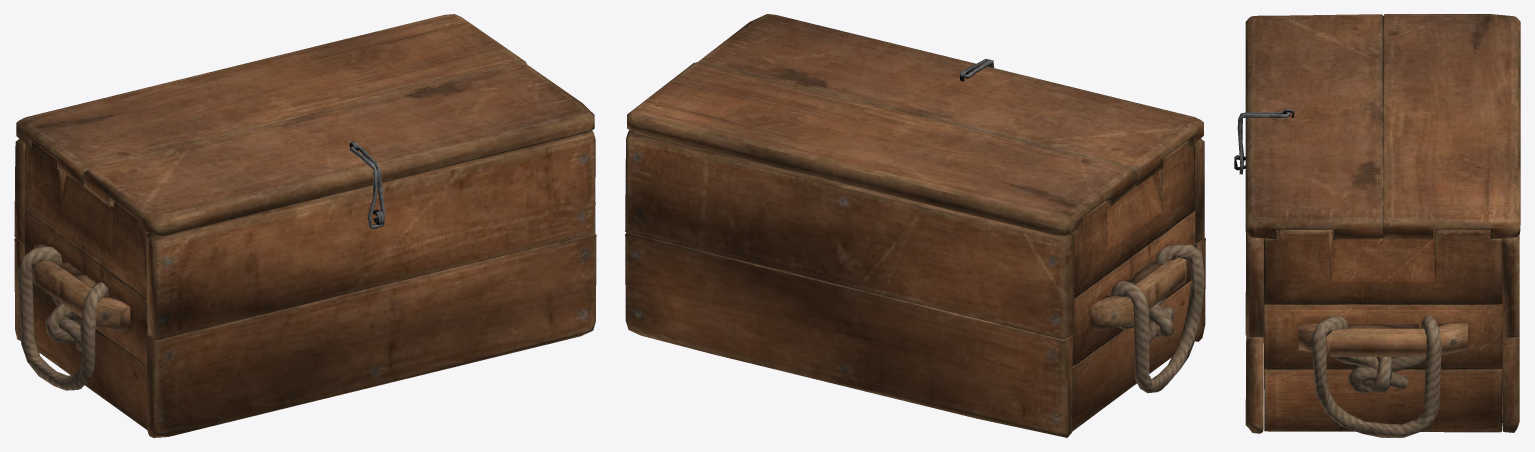
Rendered from wooden_crate_01.glb.
3 renders of one model, left to right at view 1: azimuth 30°, elevation 25°; view 2: azimuth 150°, elevation 25°; view 3: azimuth 270°, elevation 25°, orthographic. The views are drawn at different scales.
Parts seen in each view (by area): view 1: wooden_crate_01_lid; view 2: wooden_crate_01_lid; view 3: wooden_crate_01_lid.
Part boxes in pixels (x1,y1,x2,y2): wooden_crate_01_lid: (14,14,596,437); wooden_crate_01_lid: (625,14,1205,437); wooden_crate_01_lid: (1234,14,1520,437).
Size of the model in its own units: 0.8245 by 0.3471 by 0.4069.
1 material, 1 textured.
